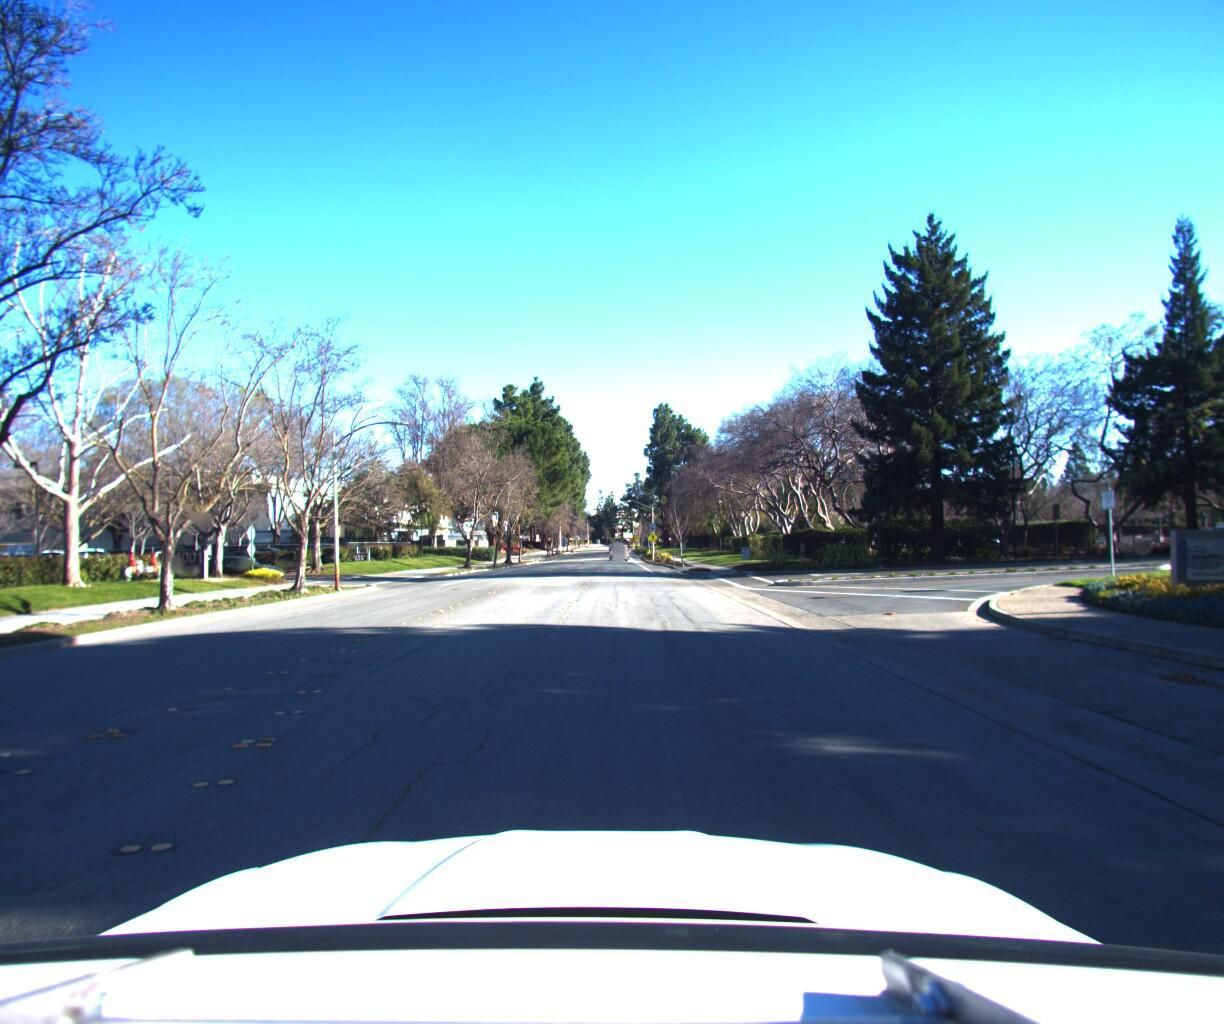car: (609, 535, 627, 552)
